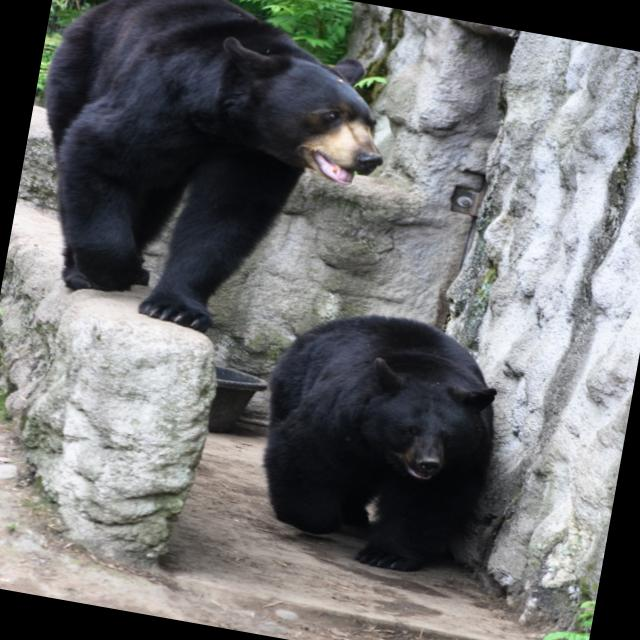bear: (31, 0, 454, 376), (184, 259, 556, 596)
